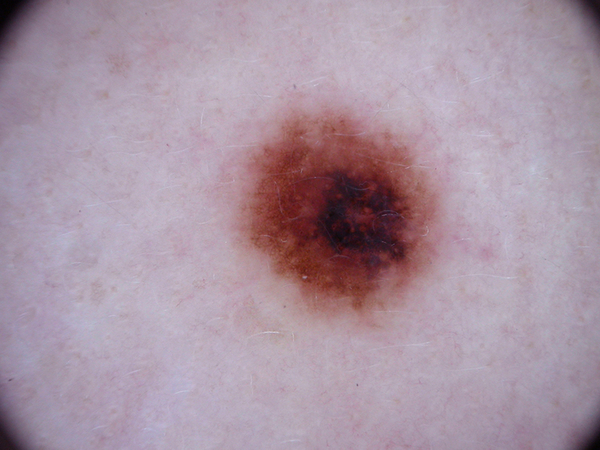Detected Lesion: (239, 107, 447, 320)
